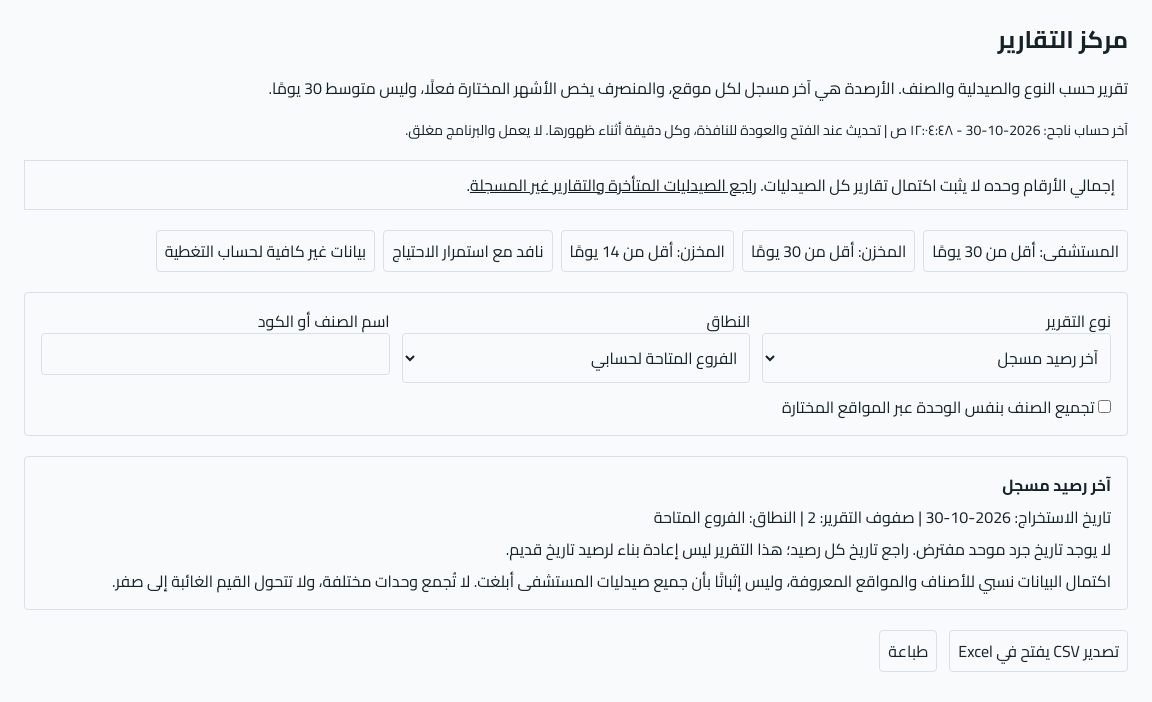
displays dedicated shortage shortcuts and metrics in the shared report center
Click the button "المخزن: أقل من 14 يومًا" at (647, 251), box [561,230,734,272]
(page scrolled)
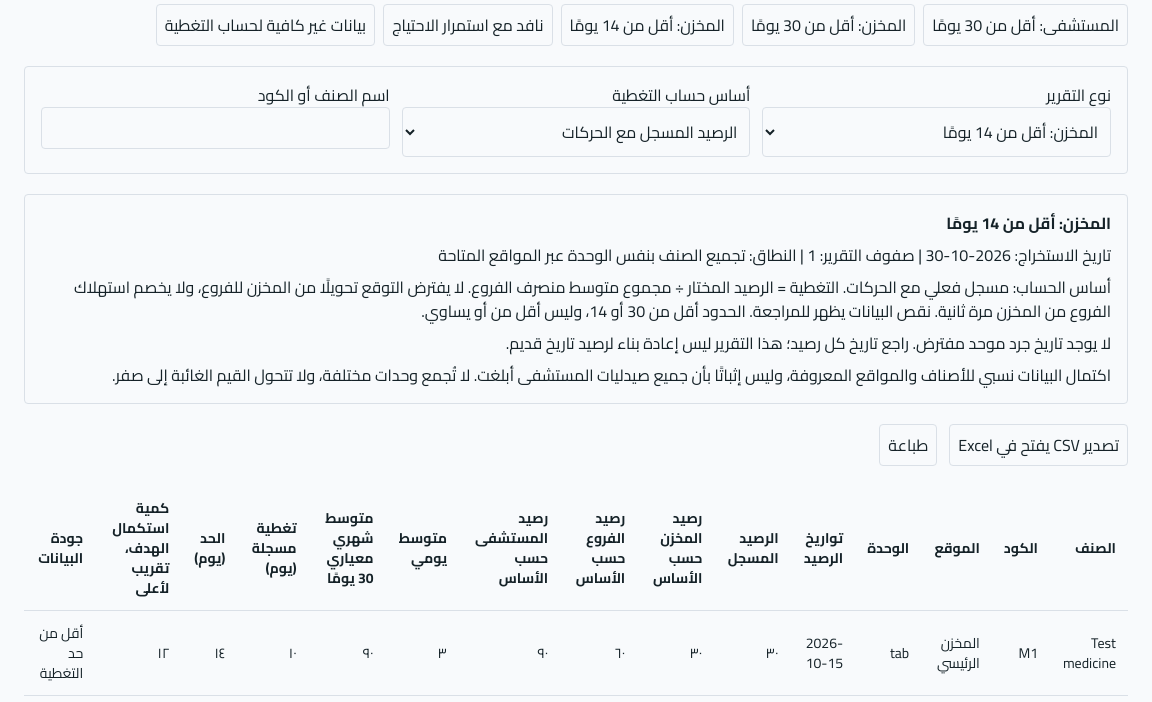
Expected: the column heading "تغطية مسجلة (يوم)" is shown, [237,486,309,610]
Expected: the text "١٠" is shown, [237,610,309,696]
